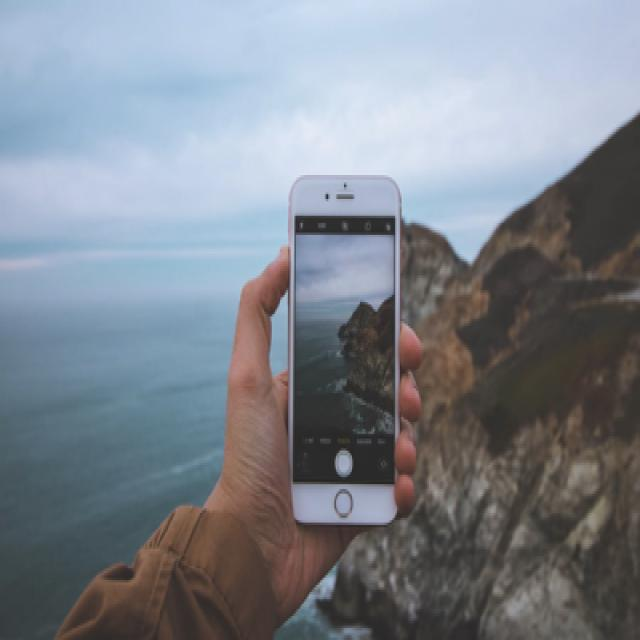cellphone: (286, 173, 402, 525)
